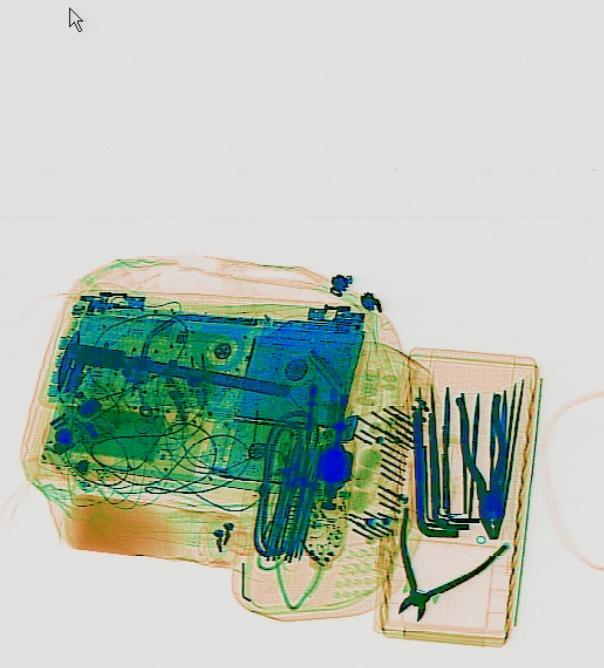Pliers: (361, 499, 507, 644), (454, 391, 519, 541)
